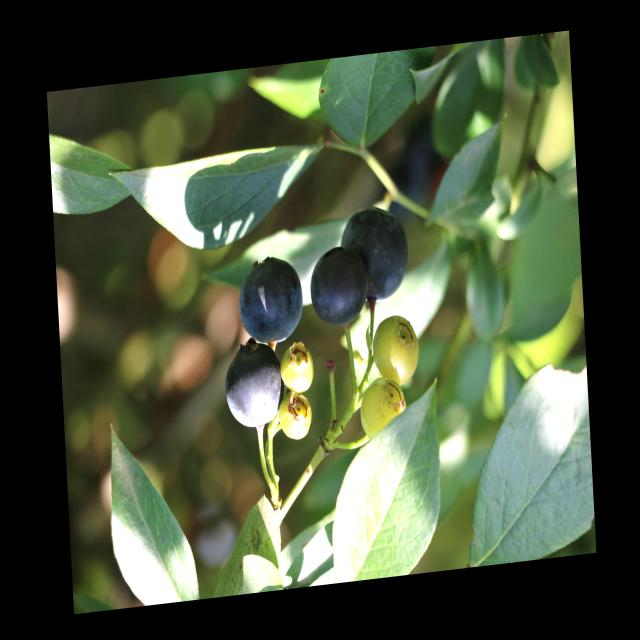blueberry: (336, 203, 413, 306), (235, 256, 305, 349), (222, 344, 287, 434), (308, 245, 371, 332)
blueberry-unripe: (369, 310, 422, 387), (358, 373, 409, 441), (277, 338, 318, 399), (276, 390, 316, 444)
